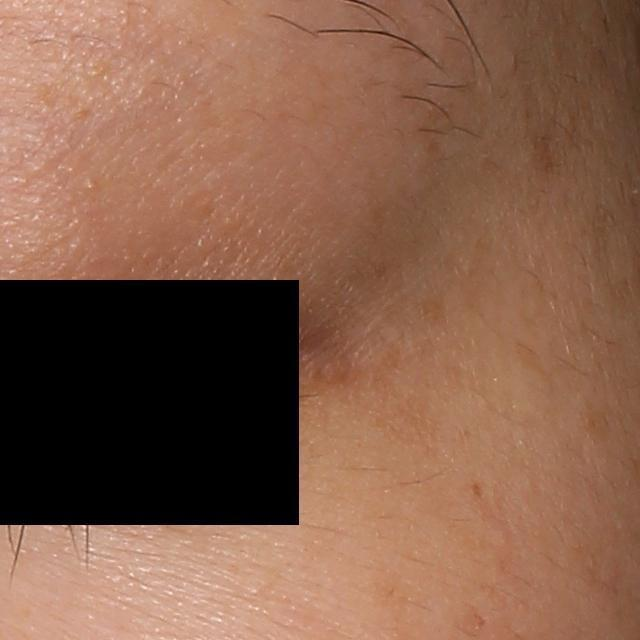melasma: (378, 386, 443, 448), (292, 358, 364, 410), (372, 561, 413, 626), (415, 297, 447, 328)
